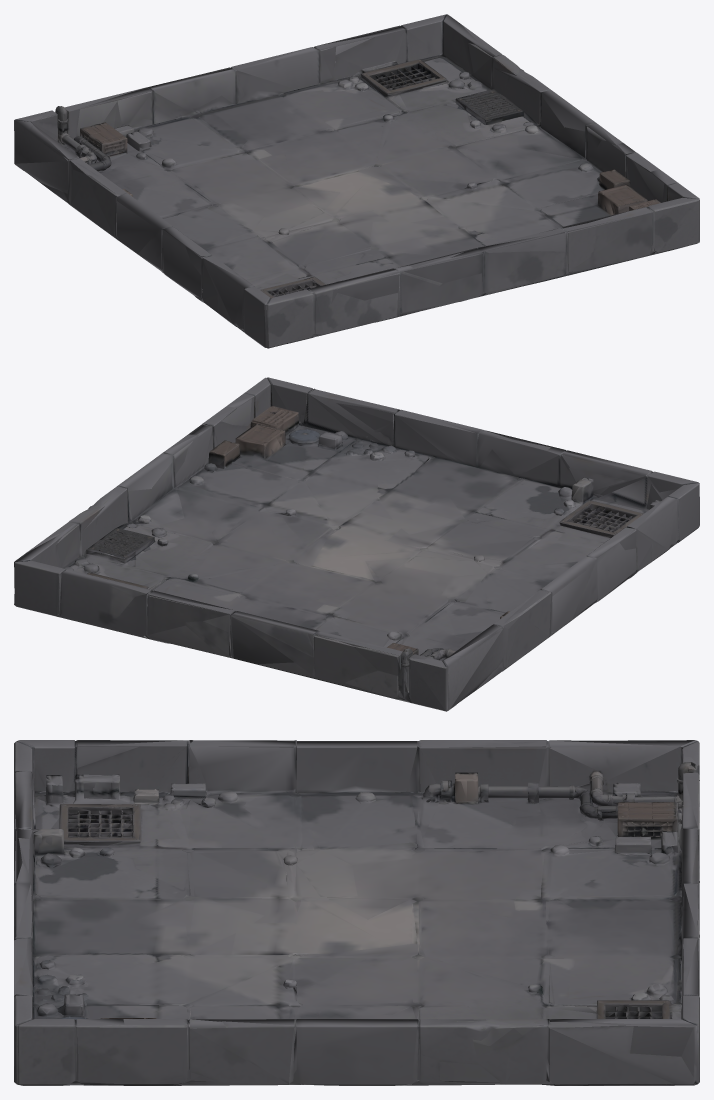
Rendered from Floor.fbx.
3 views of the same model, one above another, from view 1: azimuth 30°, elevation 25°; view 2: azimuth 150°, elevation 25°; view 3: azimuth 270°, elevation 25° (orthographic). The views are drawn at different scales.
Visible parts, largest first — view 1: Mesh_0; view 2: Mesh_0; view 3: Mesh_0.
Part boxes in pixels (x1=…): Mesh_0: x1=14, y1=14, x2=699, y2=348; Mesh_0: x1=14, y1=377, x2=699, y2=711; Mesh_0: x1=14, y1=740, x2=699, y2=1085.
Bounding box in the file's own units: 45927 × 5000 × 46408.
Materials: 1 (1 with a texture image).
